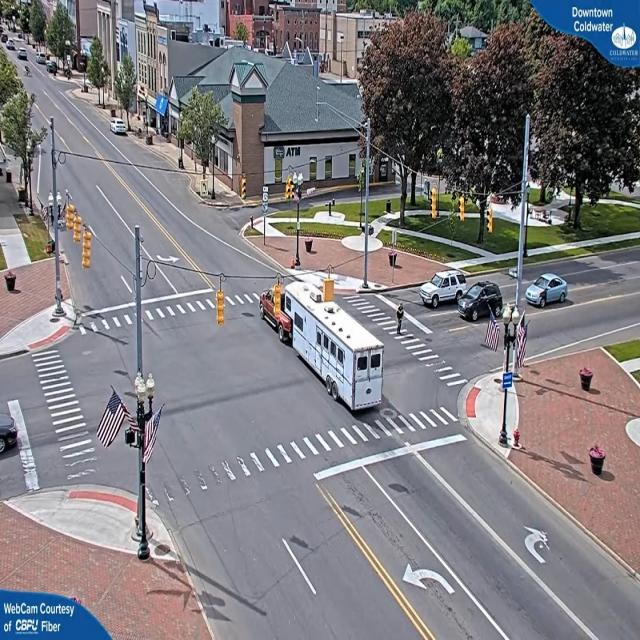car: (461, 280, 505, 324), (421, 268, 465, 308), (526, 270, 569, 308), (112, 120, 129, 136)
